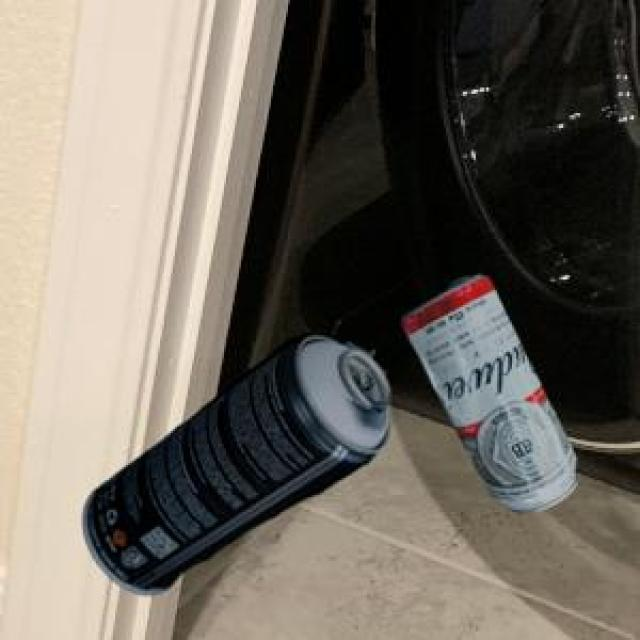logam: (80, 332, 387, 592), (398, 272, 573, 509)
